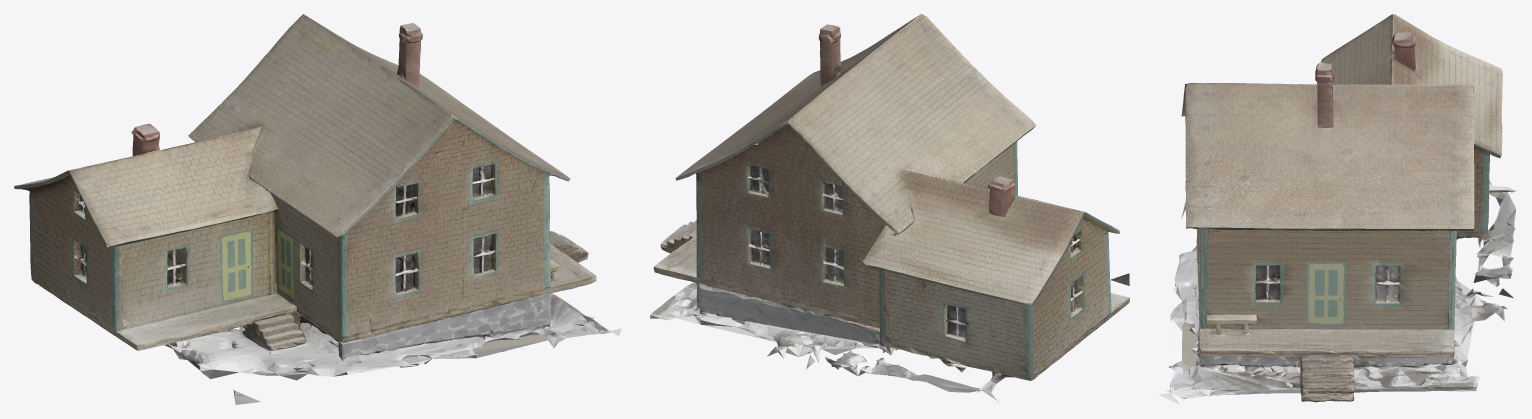
File: mdl_bat_ete_52.fbx
3 renders of one model, left to right at view 1: azimuth 30°, elevation 25°; view 2: azimuth 150°, elevation 25°; view 3: azimuth 270°, elevation 25°, orthographic. The views are drawn at different scales.
Visible parts, largest first — view 1: mdl_bat_ete_52; view 2: mdl_bat_ete_52; view 3: mdl_bat_ete_52.
Boxes of the visible parts, x1=… form: mdl_bat_ete_52: x1=14, y1=14, x2=621, y2=404; mdl_bat_ete_52: x1=650, y1=14, x2=1129, y2=403; mdl_bat_ete_52: x1=1159, y1=14, x2=1516, y2=404.
Size of the model in its own units: 27.29 by 15.55 by 18.48.
1 material, 1 textured.
